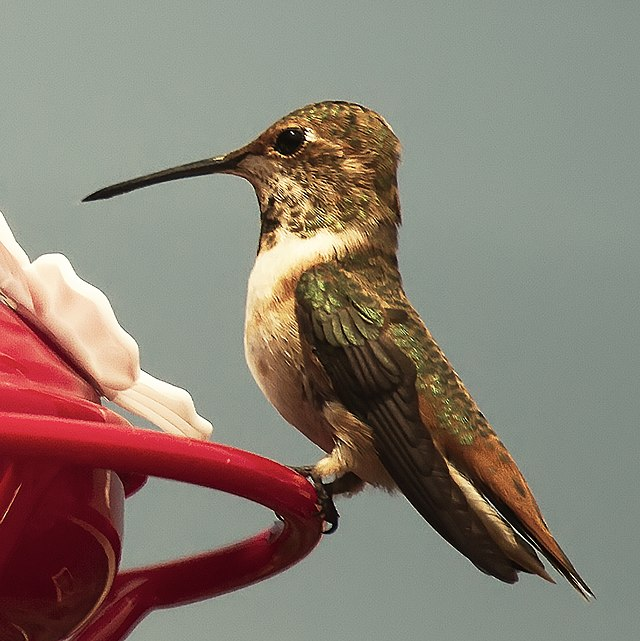selasphorus sasin: (74, 102, 591, 596)
